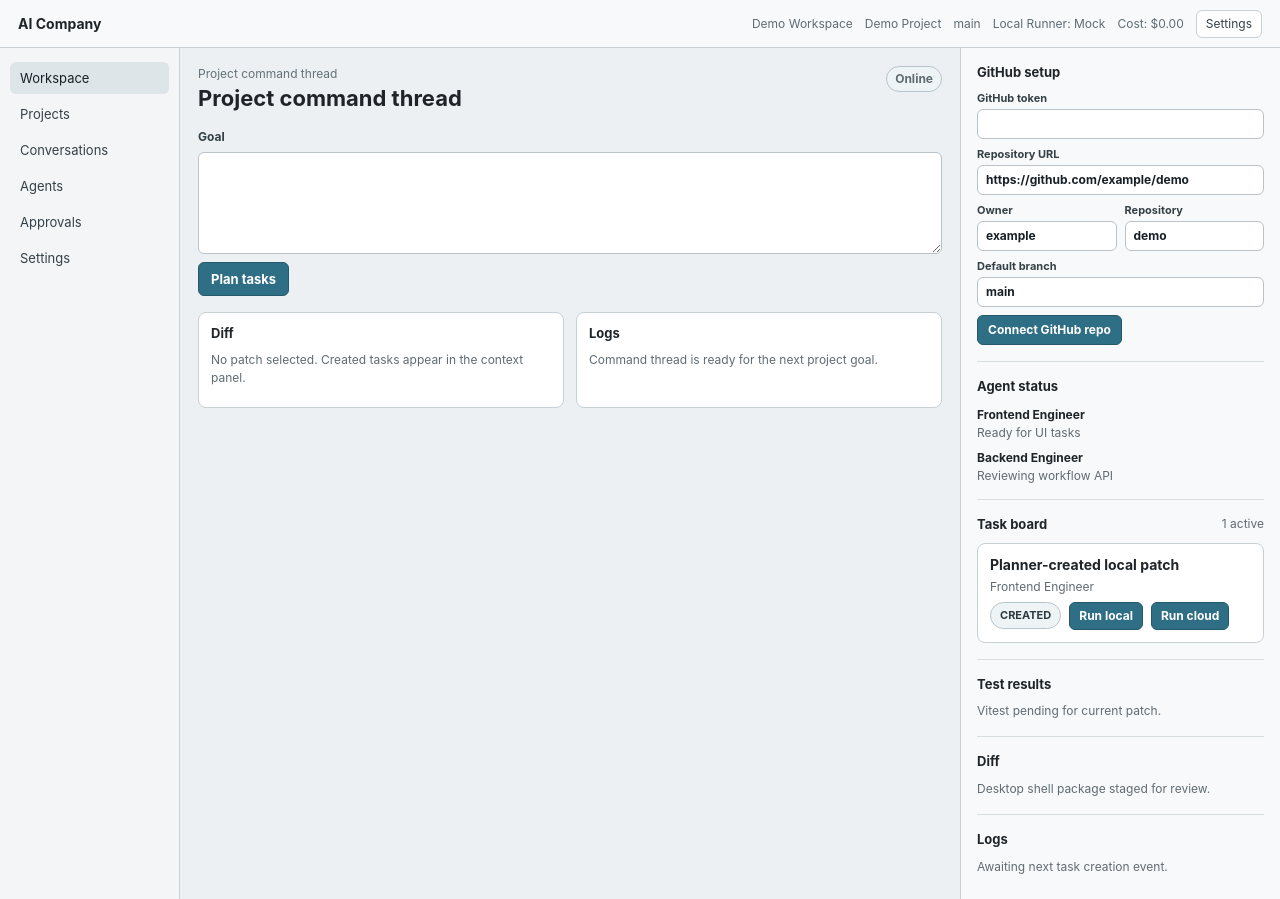
Test case: App › keeps the current task identity when fake local-run tests return a demo task
Click the button "Run local". click: (1106, 616)
box: left=1069, top=602, right=1143, bottom=630
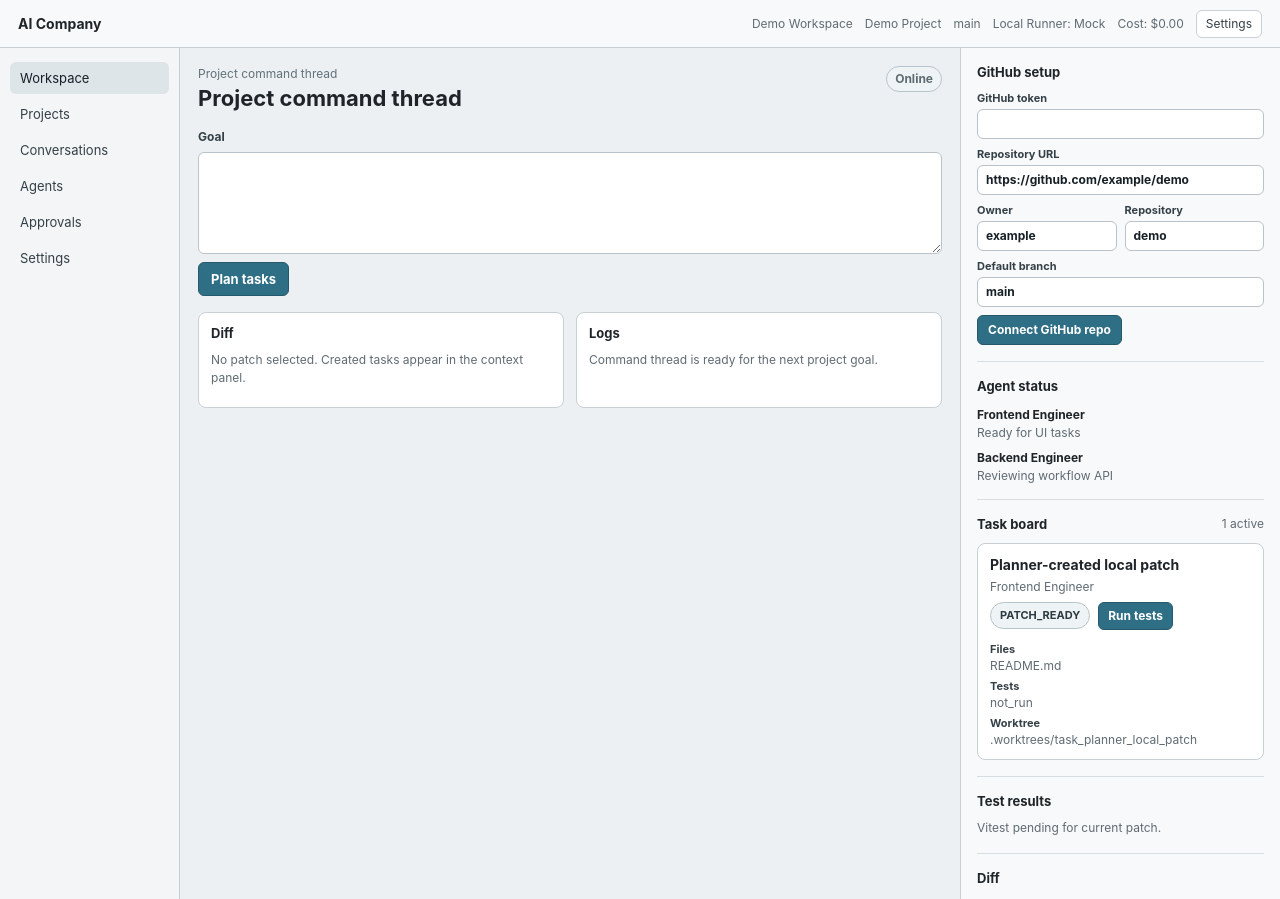
Click the button "Run tests". click: (1136, 616)
box: left=1098, top=602, right=1173, bottom=630
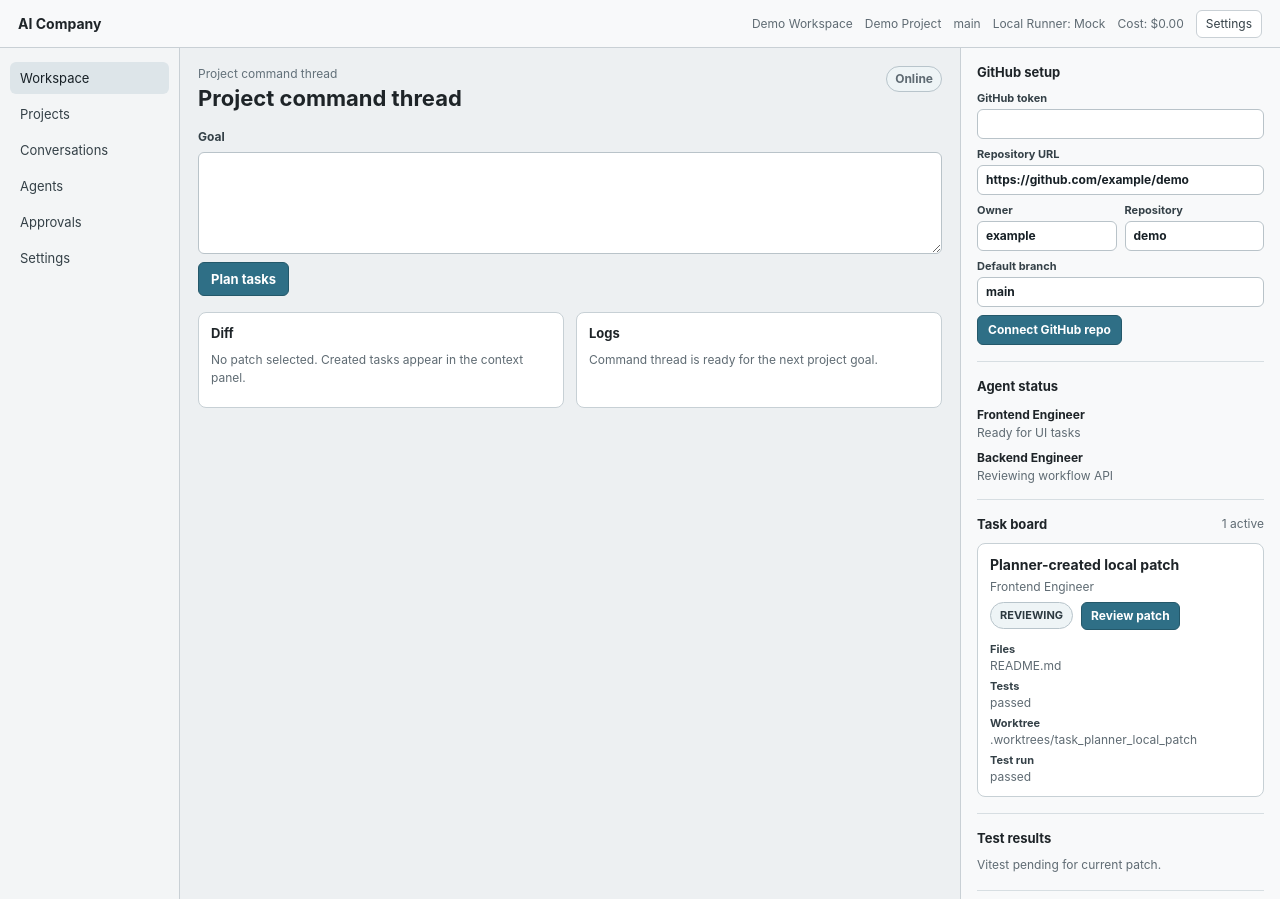
Expected: the heading "Planner-created local patch" is shown, left=990, top=556, right=1179, bottom=573
Now the text "REVIEWING" is shown, box left=990, top=602, right=1073, bottom=629
